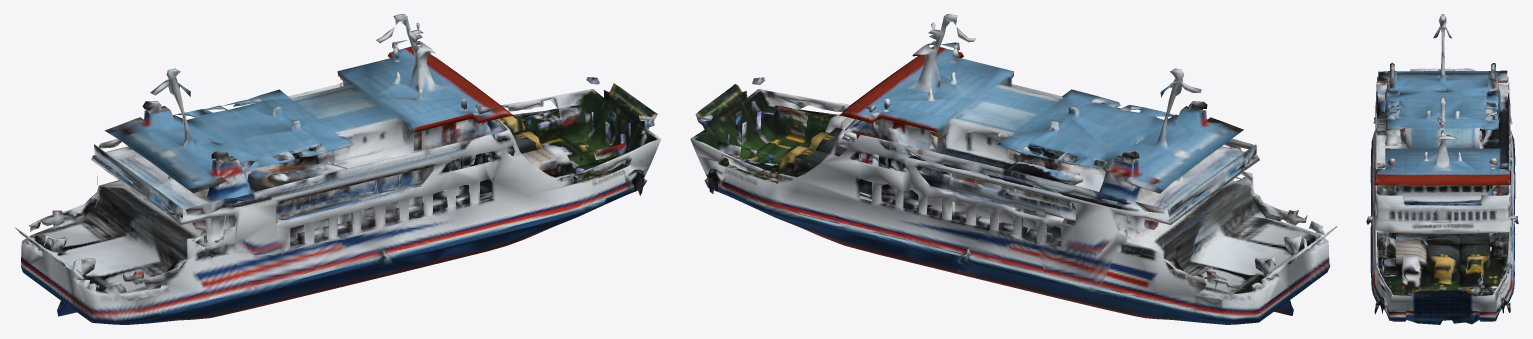
Rendered from ferry.glb.
3 views of the same model, side by side, from view 1: azimuth 30°, elevation 25°; view 2: azimuth 150°, elevation 25°; view 3: azimuth 270°, elevation 25° (orthographic). The views are drawn at different scales.
Parts seen in each view (by area): view 1: tripo_node_c8aa0972; view 2: tripo_node_c8aa0972; view 3: tripo_node_c8aa0972.
Boxes of the visible parts, bbox=[...] form: tripo_node_c8aa0972: bbox=[14, 14, 661, 324]; tripo_node_c8aa0972: bbox=[690, 14, 1337, 324]; tripo_node_c8aa0972: bbox=[1366, 14, 1518, 324].
Size of the model in its own units: 100 by 34.87 by 29.39.
Materials: 1 (1 with a texture image).
